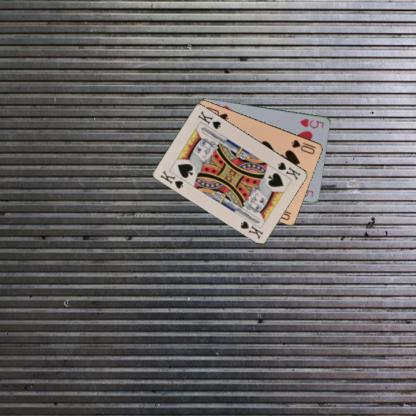10s: (289, 137, 317, 155)
5h: (298, 116, 325, 130)
Ks: (275, 160, 303, 182), (158, 168, 185, 190)
